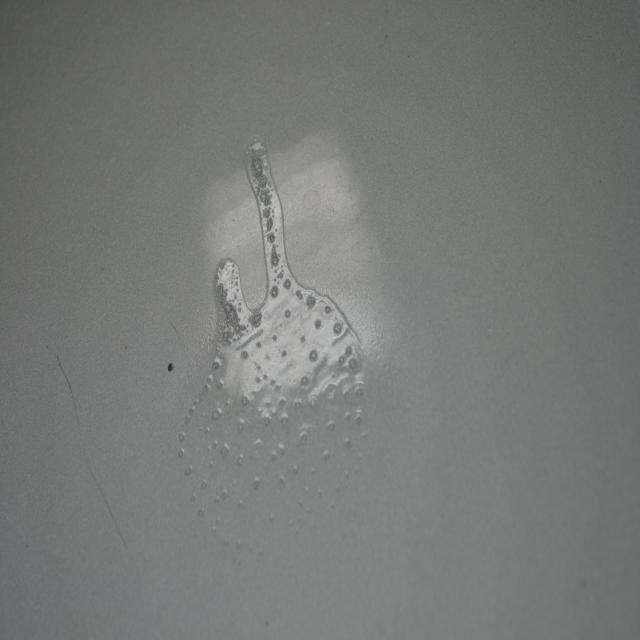dirt: (165, 360, 176, 374)
runs: (169, 138, 367, 600)
scratch: (49, 355, 133, 556)
